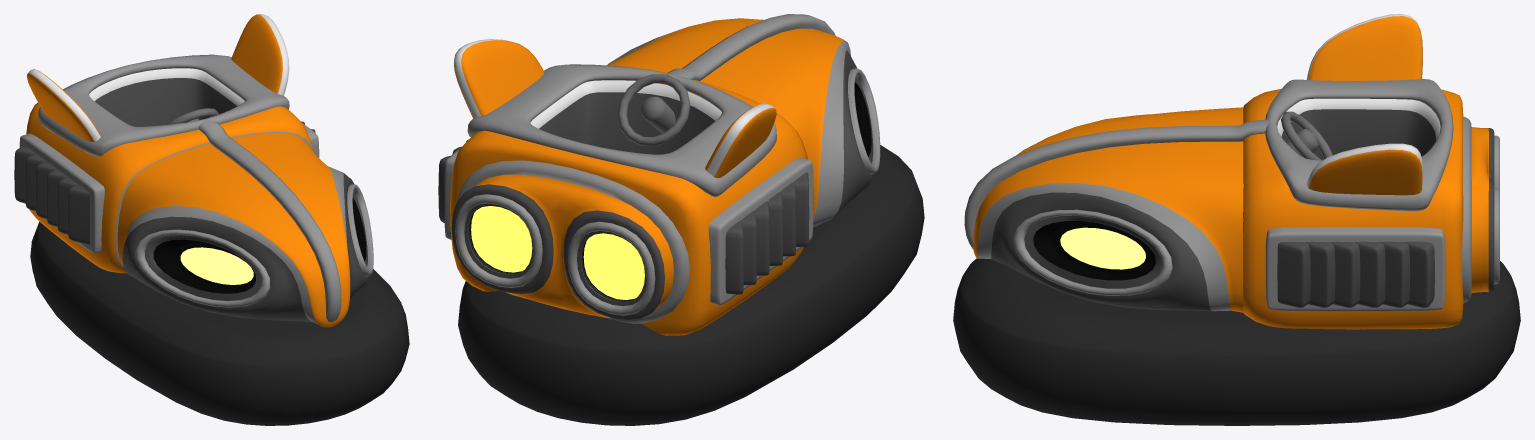
The model's file is mesh_Car_Menu_E.fbx.
3 renders of one model, left to right at view 1: azimuth 30°, elevation 25°; view 2: azimuth 150°, elevation 25°; view 3: azimuth 270°, elevation 25°, orthographic. The views are drawn at different scales.
Parts seen in each view (by area): view 1: mesh_Car_Menu_E; view 2: mesh_Car_Menu_E; view 3: mesh_Car_Menu_E.
Boxes of the visible parts, box(x1,y1,x2,y2) form: mesh_Car_Menu_E: box(14, 14, 409, 425); mesh_Car_Menu_E: box(438, 14, 924, 425); mesh_Car_Menu_E: box(953, 14, 1520, 425).
Size of the model in its own units: 1.79 by 1.7 by 2.97.
